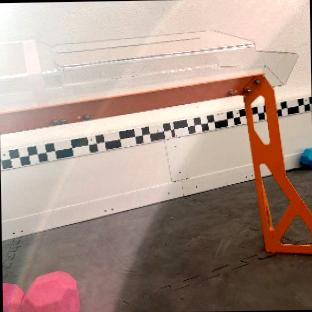Goal: (0, 29, 312, 253)
V5_RED: (2, 271, 78, 312)
